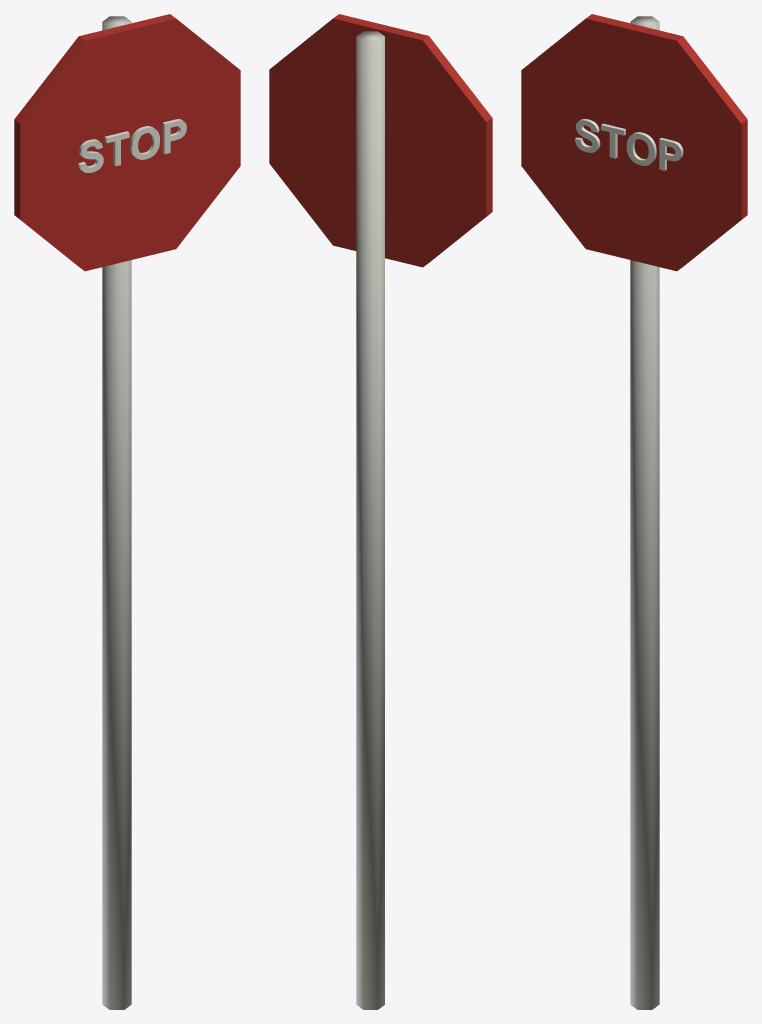
Rendered from sign_stop.glb.
The picture shows the model from 3 angles, left to right: view 1: azimuth 30°, elevation 25°; view 2: azimuth 150°, elevation 25°; view 3: azimuth 330°, elevation 25°; orthographic projection.
Visible parts, largest first — view 1: RoadSign; view 2: RoadSign; view 3: RoadSign.
Boxes of the visible parts, x1,y1,x2,y2 form: RoadSign: (14,14,240,1009); RoadSign: (269,14,492,1009); RoadSign: (521,14,747,1009).
Bounding box in the file's own units: 0.6098 × 2.6 × 0.115.
